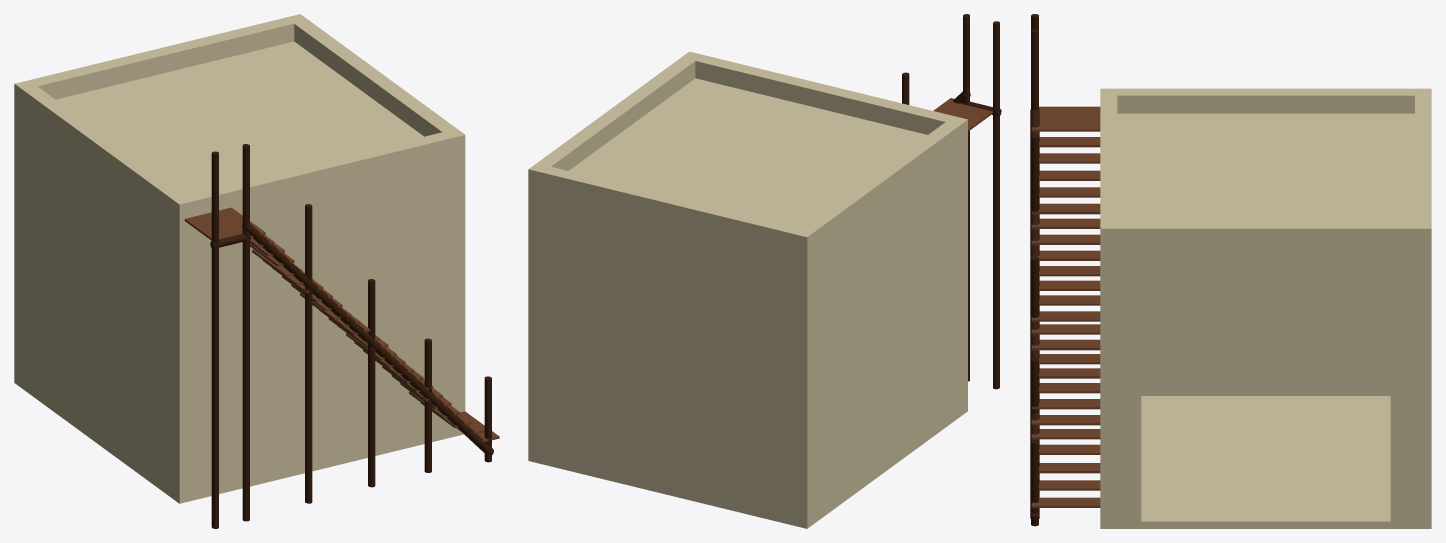
File: Strand HausInWork.fbx
3 views of the same model, side by side, from view 1: azimuth 30°, elevation 25°; view 2: azimuth 150°, elevation 25°; view 3: azimuth 270°, elevation 25° (orthographic). The views are drawn at different scales.
Parts seen in each view (by area): view 1: Cube, TreppenGerüst, Treppe; view 2: Cube, TreppenGerüst, Treppe; view 3: Cube, Treppe, TreppenGerüst.
Part boxes in pixels (x1=…): Cube: x1=14, y1=14, x2=465, y2=503; TreppenGerüst: x1=210, y1=144, x2=493, y2=528; Treppe: x1=184, y1=207, x2=499, y2=442; Cube: x1=528, y1=51, x2=967, y2=528; TreppenGerüst: x1=902, y1=14, x2=1001, y2=389; Treppe: x1=933, y1=98, x2=992, y2=131; Cube: x1=1100, y1=88, x2=1431, y2=528; Treppe: x1=1031, y1=106, x2=1100, y2=507; TreppenGerüst: x1=1030, y1=14, x2=1039, y2=526.
Bounding box in the file's own units: 200 × 250 × 242.
